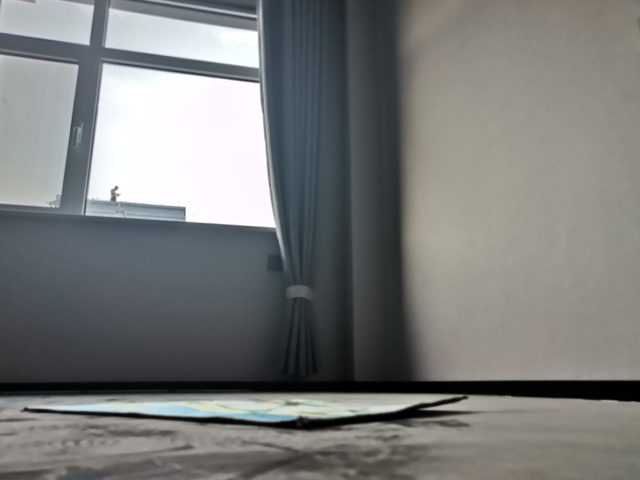carpet: (18, 392, 472, 431)
curtain: (256, 1, 327, 380)
